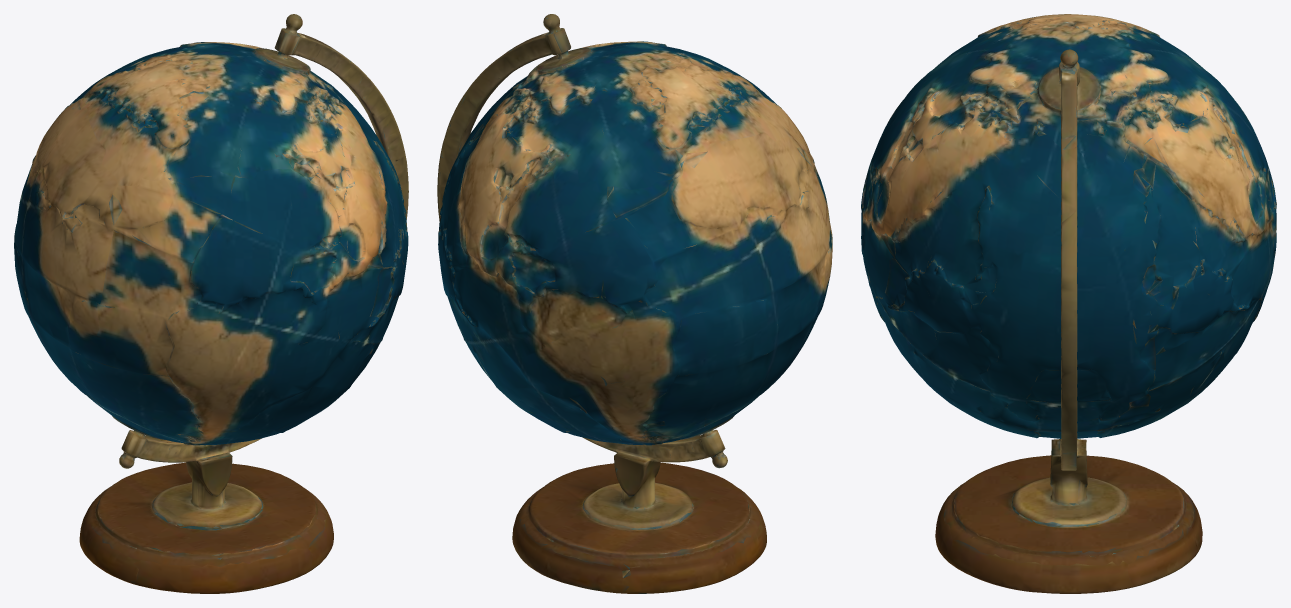
Rendered from globe.glb.
3 renders of one model, left to right at view 1: azimuth 30°, elevation 25°; view 2: azimuth 150°, elevation 25°; view 3: azimuth 270°, elevation 25°, orthographic. The views are drawn at different scales.
Visible parts, largest first — view 1: Mesh_0; view 2: Mesh_0; view 3: Mesh_0.
Part boxes in pixels (x1=…): Mesh_0: x1=14, y1=14, x2=408, y2=593; Mesh_0: x1=437, y1=14, x2=832, y2=593; Mesh_0: x1=861, y1=14, x2=1276, y2=593.
Bounding box in the file's own units: 1.43 × 1.9 × 1.34.
Materials: 1 (1 with a texture image).
